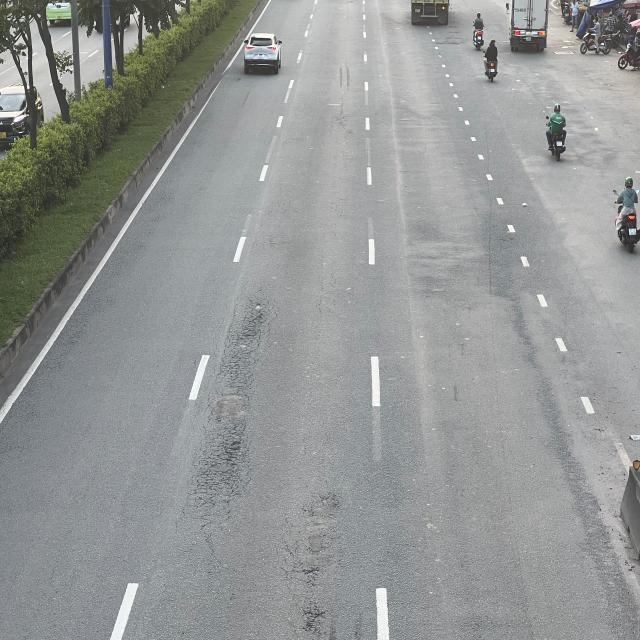car: (244, 31, 282, 70)
truck: (509, 0, 548, 49)
